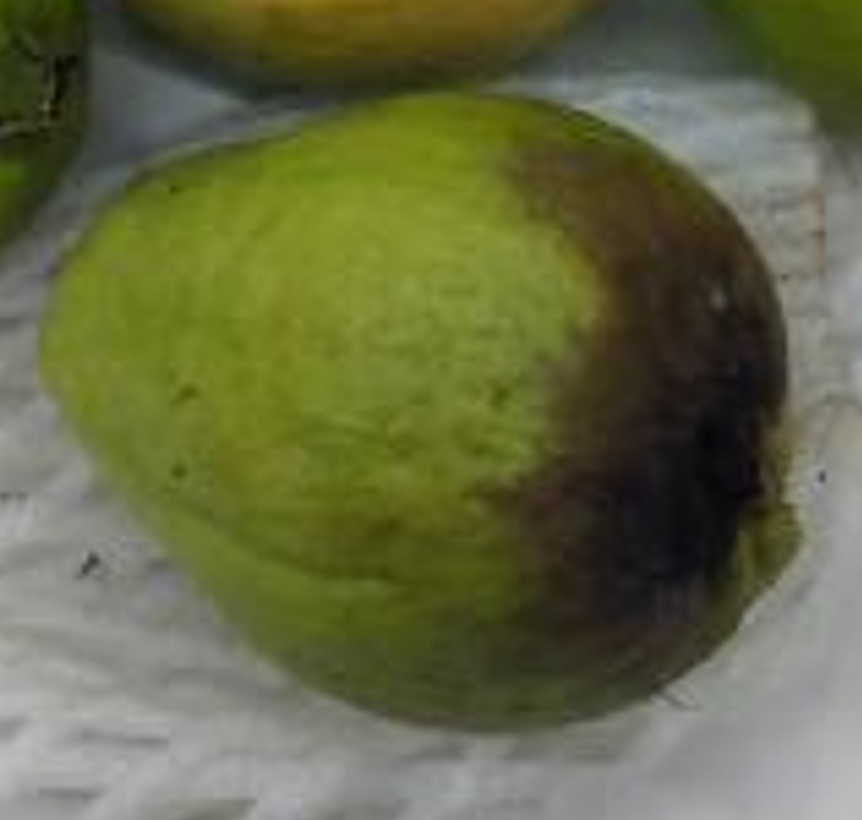guava_C: (36, 89, 804, 731)
